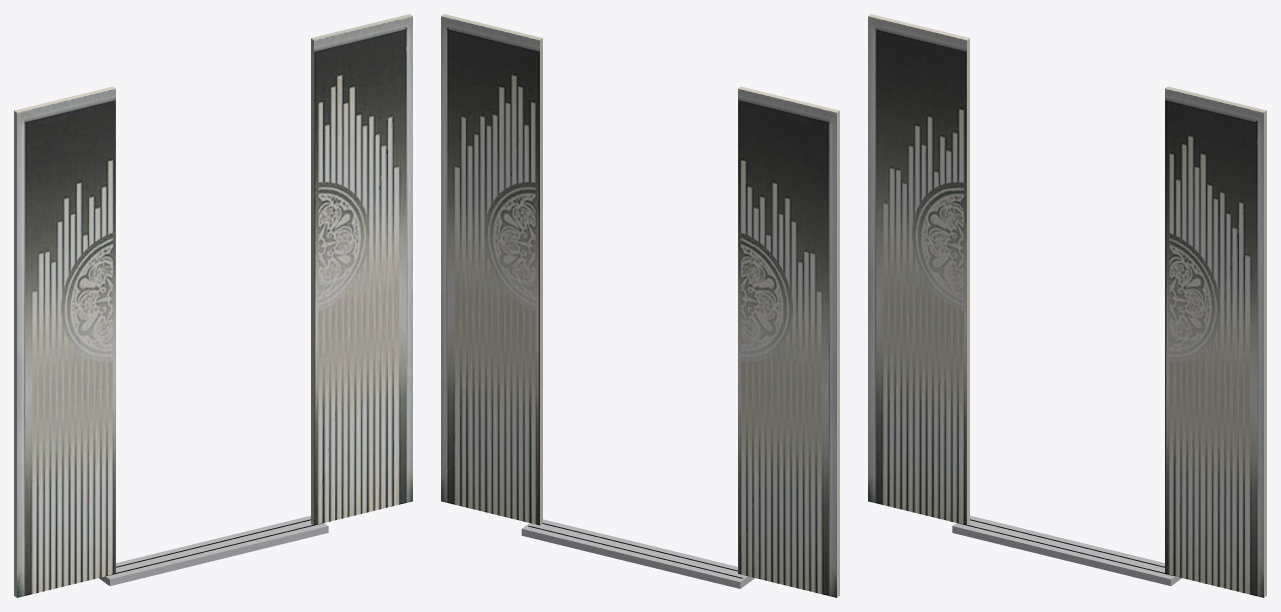
The model's file is cabin_door_TM014.glb.
3 renders of one model, left to right at view 1: azimuth 30°, elevation 25°; view 2: azimuth 150°, elevation 25°; view 3: azimuth 330°, elevation 25°, orthographic.
Visible parts, largest first — view 1: Car_Door_L, Car_Door_R, Door_Sill; view 2: Car_Door_L, Car_Door_R, Door_Sill; view 3: Car_Door_R, Car_Door_L, Door_Sill.
Part boxes in pixels (x1=…): Car_Door_L: x1=14, y1=86, x2=115, y2=597; Car_Door_R: x1=311, y1=14, x2=412, y2=525; Door_Sill: x1=99, y1=515, x2=328, y2=585; Car_Door_L: x1=738, y1=86, x2=839, y2=597; Car_Door_R: x1=441, y1=14, x2=542, y2=525; Door_Sill: x1=521, y1=519, x2=754, y2=588; Car_Door_R: x1=1165, y1=86, x2=1266, y2=597; Car_Door_L: x1=868, y1=14, x2=969, y2=525; Door_Sill: x1=952, y1=515, x2=1181, y2=585.
Bounding box in the file's own units: 1.81 × 2.15 × 0.12.
Materials: 3 (1 with a texture image).
